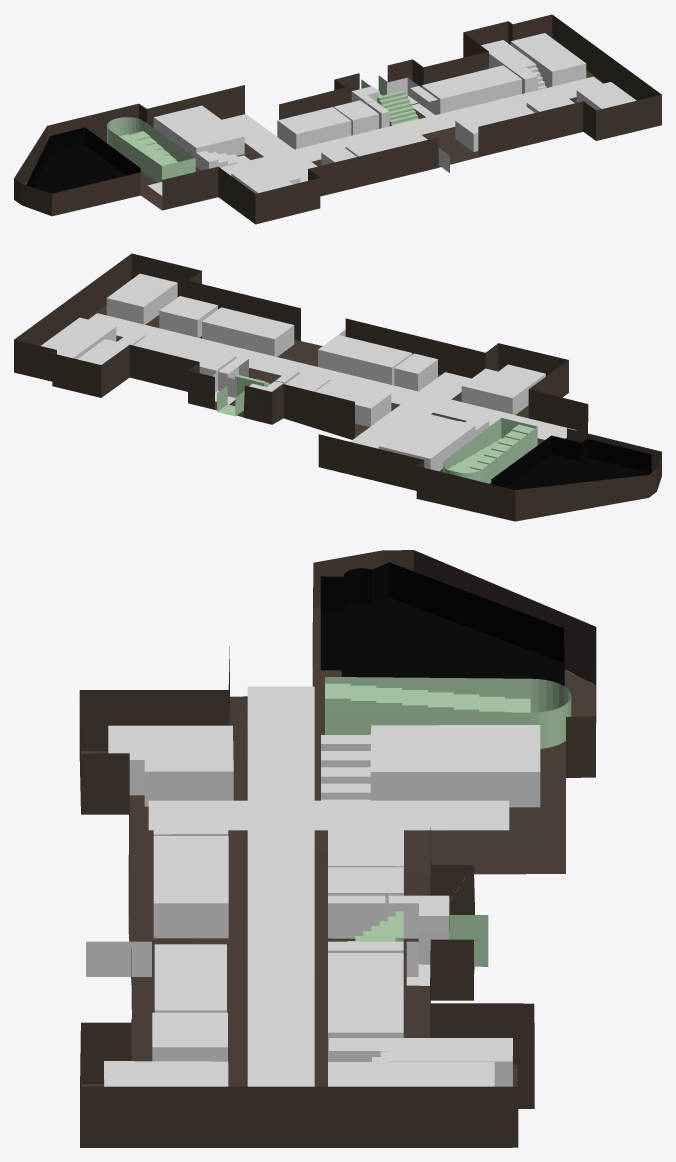
Rendered from first_floor.glb.
3 renders of one model, top to bottom at view 1: azimuth 30°, elevation 25°; view 2: azimuth 150°, elevation 25°; view 3: azimuth 270°, elevation 25°, orthographic. The views are drawn at different scales.
Visible parts, largest first — view 1: Ground, path, one stop shop, city treasurers, sp admin, stairs, city planning office, city auditors 2, CDCCO, city treasurers 2, SH, city budget office (+11 smaller); view 2: Ground, path, one stop shop, city treasurers, SH, city accountant, city treasurers 2, city budget office, stairs, city auditors 2, city planning office, sp admin (+8 smaller); view 3: Ground, path, one stop shop, city treasurers, stairs, city treasurers 2, city accountant, sp admin, SH, CDCCO, city auditors 2, city planning office (+13 smaller).
Part boxes in pixels (box(x1,y1,x2,y2)): Ground: box(14, 14, 661, 224); path: box(148, 76, 602, 195); one stop shop: box(26, 127, 140, 193); city treasurers: box(153, 105, 244, 164); sp admin: box(421, 65, 521, 114); stairs: box(107, 117, 195, 182); city planning office: box(510, 33, 586, 87); city auditors 2: box(277, 107, 351, 149); CDCCO: box(481, 40, 538, 93); city treasurers 2: box(231, 162, 300, 193); SH: box(455, 104, 534, 151); city budget office: box(576, 82, 636, 110); Ground: box(14, 253, 661, 521); path: box(89, 313, 576, 448); one stop shop: box(491, 435, 651, 489); city treasurers: box(378, 413, 475, 471); SH: box(202, 307, 294, 356); city accountant: box(318, 335, 412, 385); city treasurers 2: box(461, 364, 545, 414); city budget office: box(106, 273, 177, 324); stairs: box(443, 418, 537, 483); city auditors 2: box(315, 379, 391, 426); city planning office: box(41, 317, 116, 358); sp admin: box(134, 334, 236, 376); Ground: box(79, 550, 596, 1147); path: box(148, 686, 509, 1086); one stop shop: box(320, 562, 564, 686); city treasurers: box(370, 725, 540, 807); stairs: box(325, 677, 571, 748); city treasurers 2: box(108, 725, 233, 806); city accountant: box(153, 836, 228, 938); sp admin: box(328, 953, 403, 1061); SH: box(154, 944, 226, 1012); CDCCO: box(329, 1038, 512, 1086); city auditors 2: box(328, 812, 403, 895); city planning office: box(328, 1062, 494, 1086).
Bounding box in the file's own units: 4.3 × 0.2781 × 1.71.
